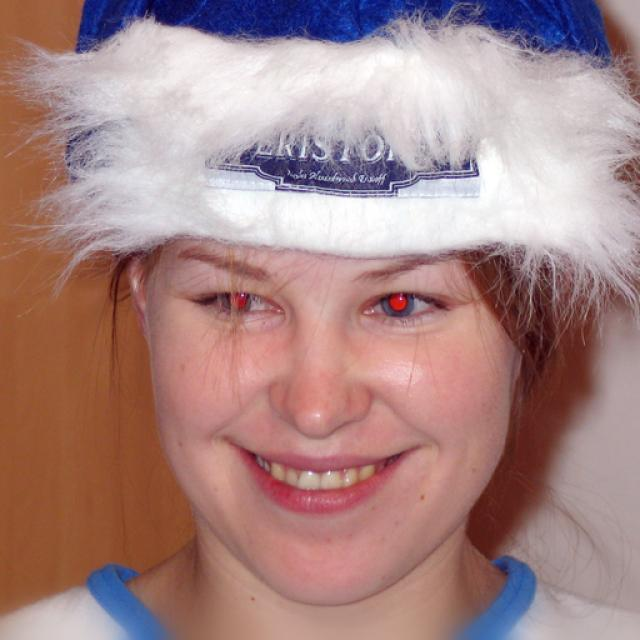happy: (144, 186, 518, 605)
